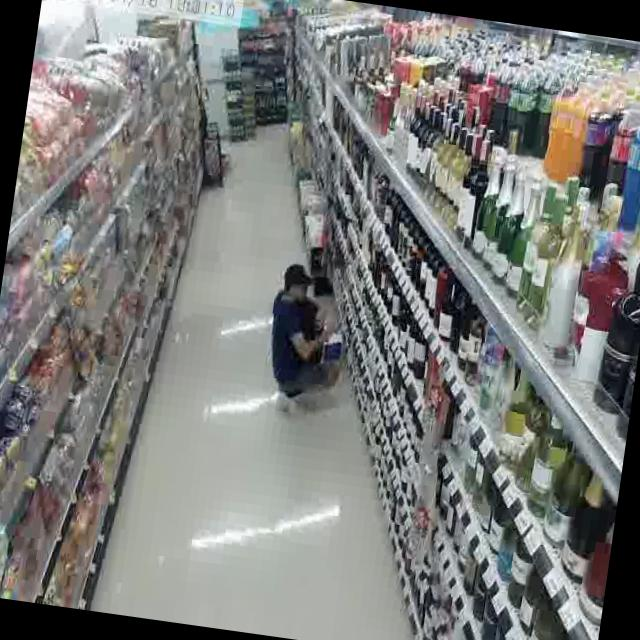shoplifting: (245, 243, 368, 436)
